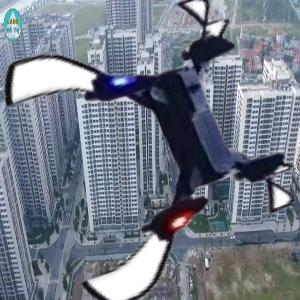drone: (15, 17, 290, 292)
